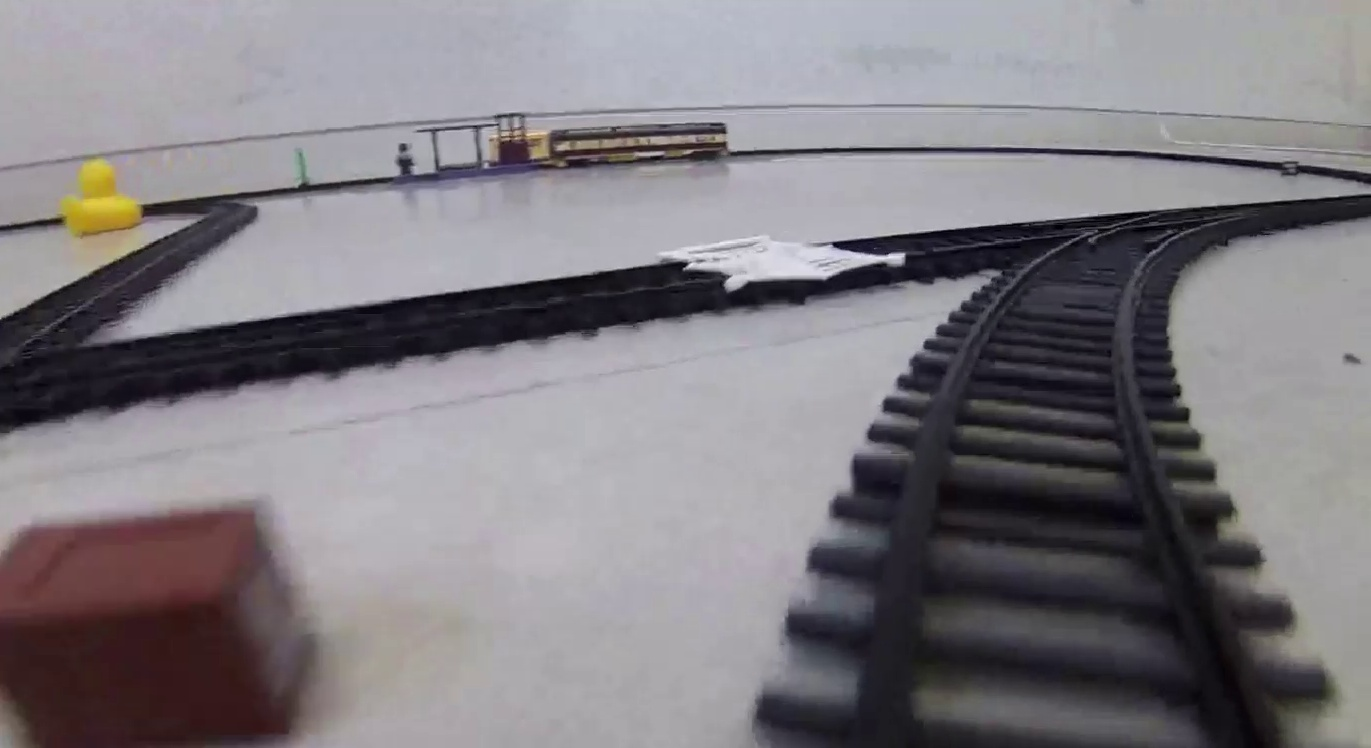box: (15, 520, 292, 731)
web: (657, 234, 908, 280)
